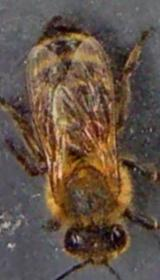varroa_mite: (78, 114, 108, 138)
